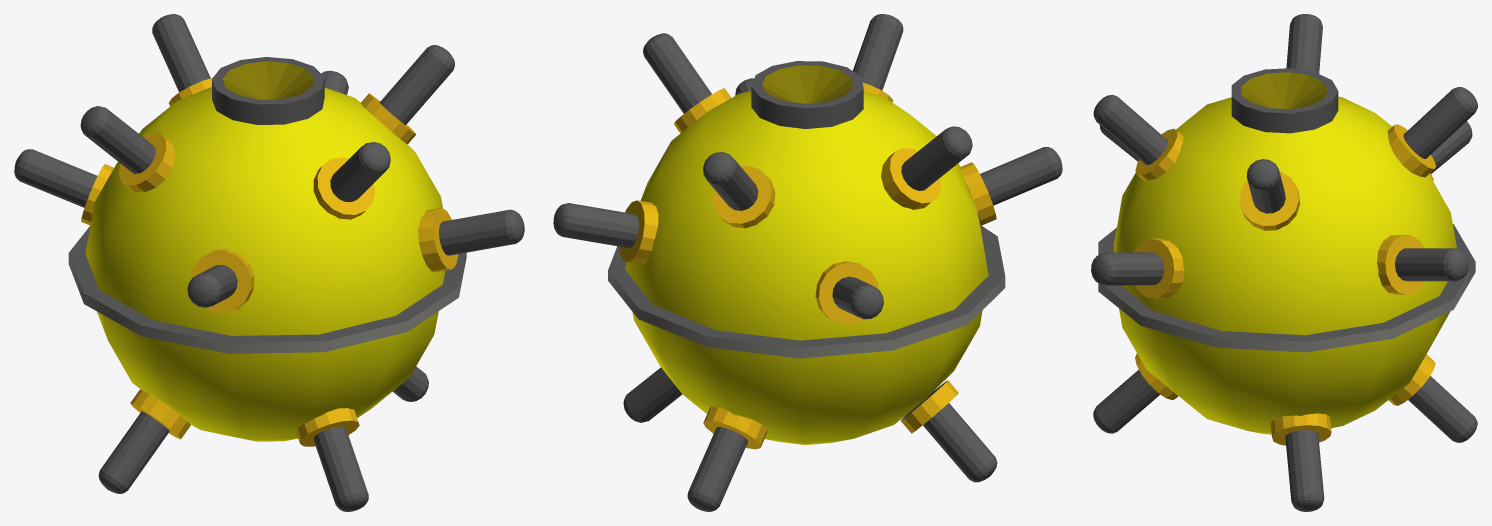
File: yellow-bomb.fbx
The picture shows the model from 3 angles, left to right: view 1: azimuth 30°, elevation 25°; view 2: azimuth 150°, elevation 25°; view 3: azimuth 270°, elevation 25°; orthographic projection. The views are drawn at different scales.
Visible parts, largest first — view 1: Sphere.002; view 2: Sphere.002; view 3: Sphere.002.
Boxes of the visible parts, left/top/right/bottom form: Sphere.002: left=14, top=14, right=524, bottom=511; Sphere.002: left=553, top=14, right=1062, bottom=511; Sphere.002: left=1091, top=14, right=1477, bottom=511.
Size of the model in its own units: 220 by 222 by 221.
